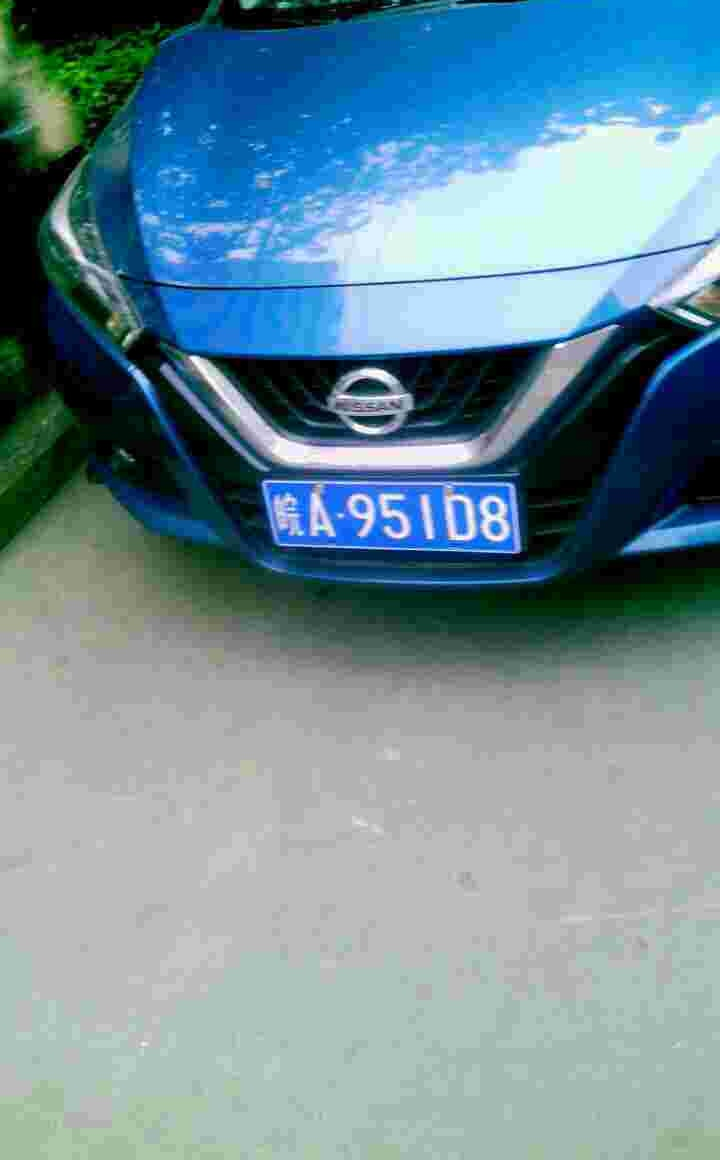plate: (261, 476, 526, 556)
